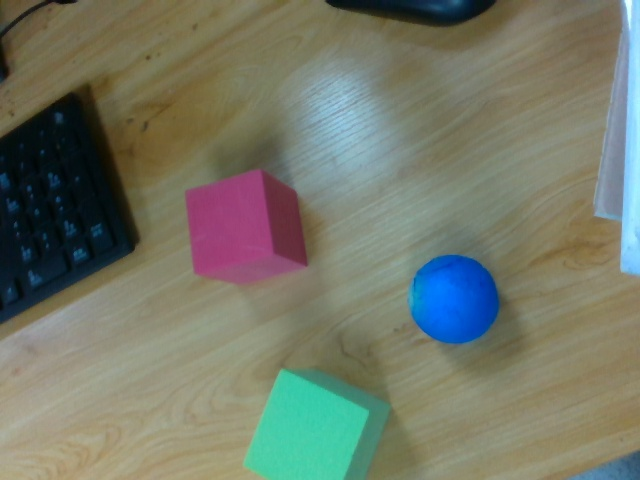blueball: (398, 239, 503, 345)
green: (243, 367, 390, 480)
red: (183, 173, 317, 280)
